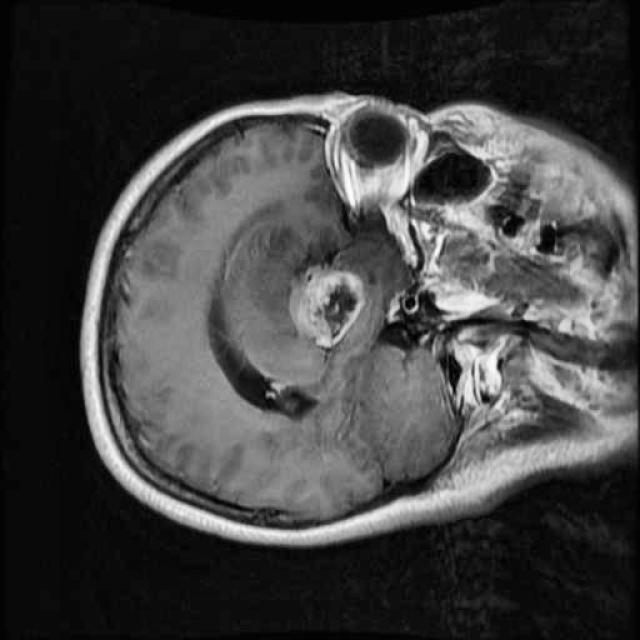Tumor: (272, 239, 382, 371)
